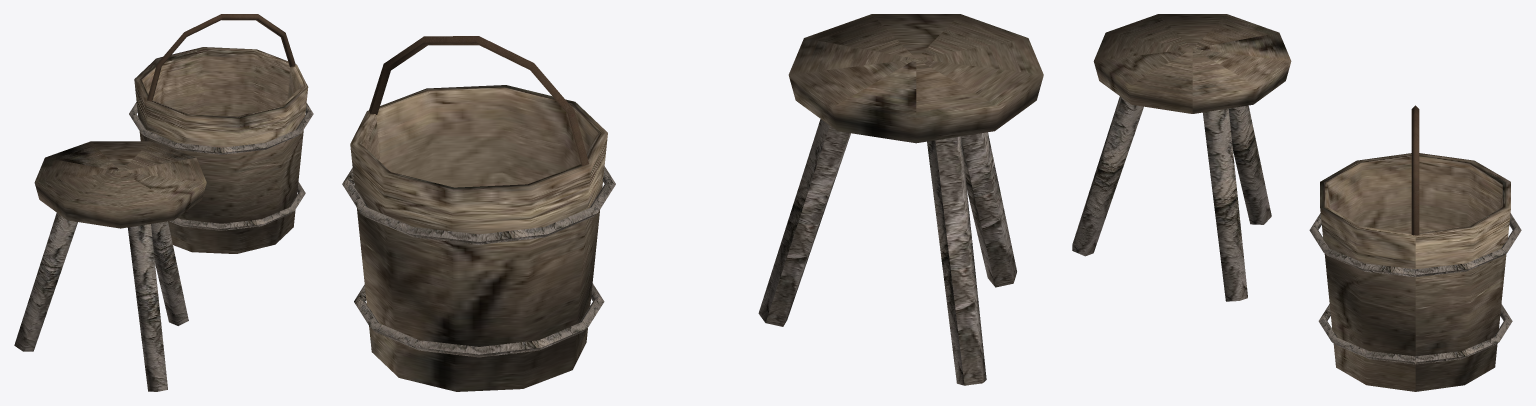
The model's file is kit_tw_hut_yard.glb.
The picture shows the model from 3 angles, left to right: view 1: azimuth 30°, elevation 25°; view 2: azimuth 150°, elevation 25°; view 3: azimuth 270°, elevation 25°; orthographic projection. The views are drawn at different scales.
Visible parts, largest first — view 1: kit_tw_hut_yard; view 2: kit_tw_hut_yard; view 3: kit_tw_hut_yard.
Boxes of the visible parts, x1,y1,x2,y2 form: kit_tw_hut_yard: [14, 14, 313, 391]; kit_tw_hut_yard: [342, 14, 1043, 391]; kit_tw_hut_yard: [1072, 14, 1521, 391].
Size of the model in its own units: 0.84 by 0.5032 by 0.806.
Materials: 1 (1 with a texture image).
